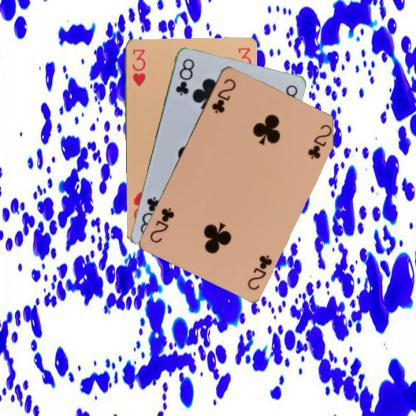2c: (244, 251, 274, 292), (208, 75, 237, 115)
3h: (129, 46, 147, 88)
8c: (173, 56, 195, 97)
